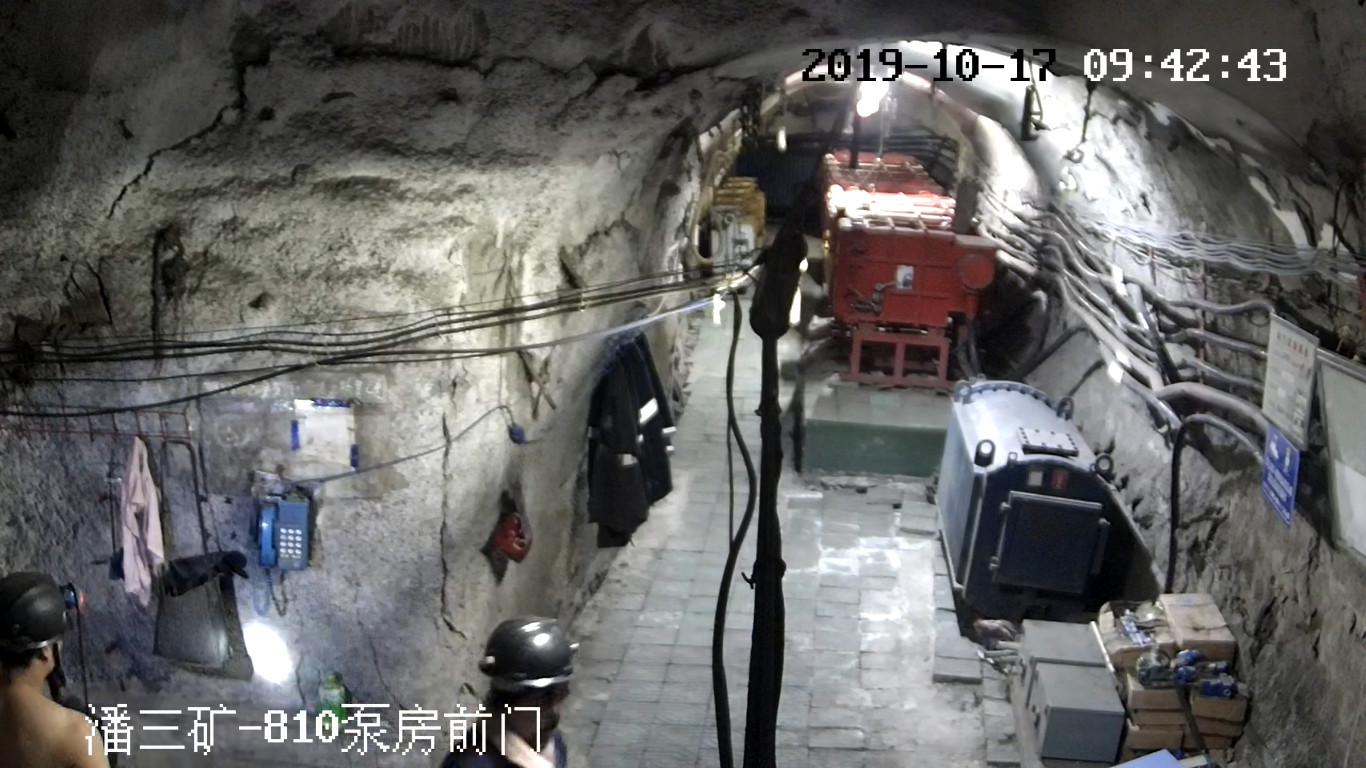helmet: (478, 615, 580, 688), (2, 571, 81, 648)
